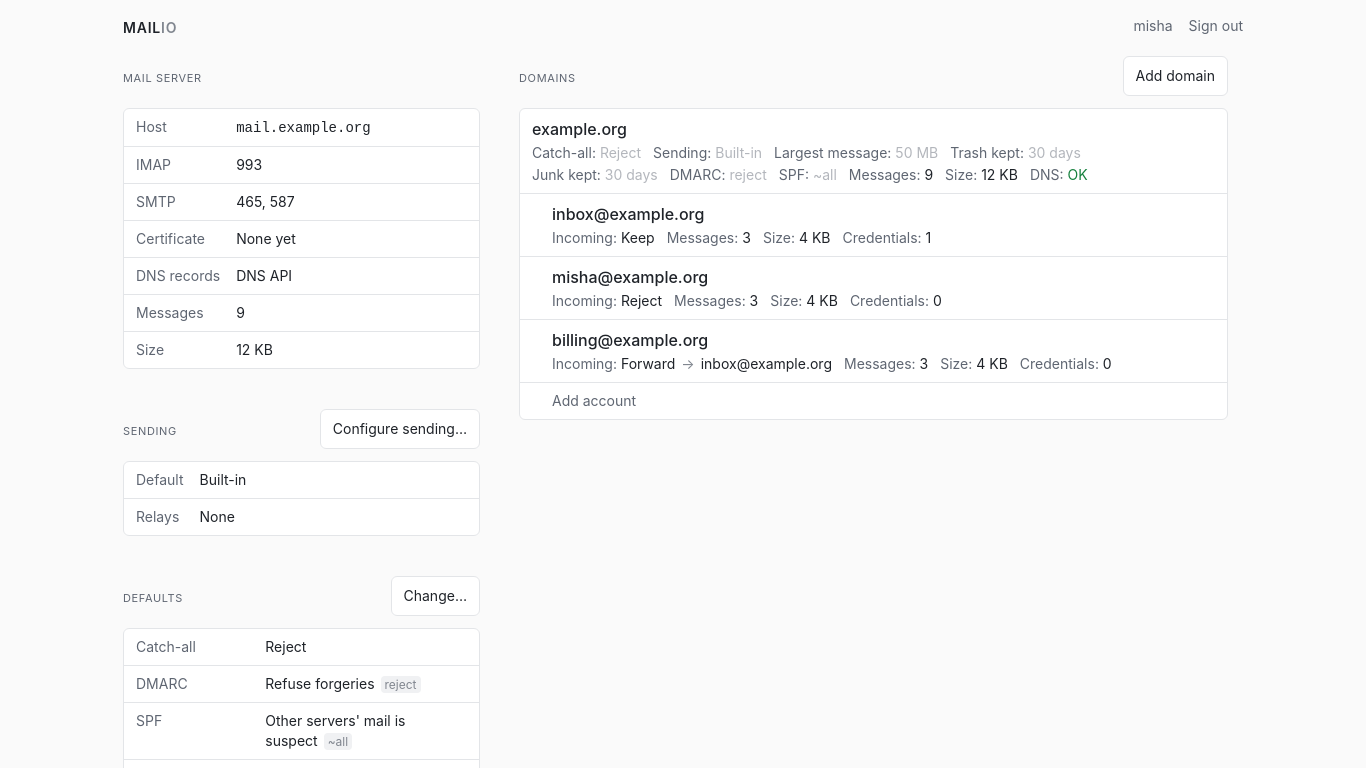
it: mail is sent on only to an account that keeps it, and that account keeps it
This screenshot has width=1366, height=768.
expect the button "billing@example.org" shows "Forward→inbox@example.org": met, box [520,320,1227,382]
Step 1. Click the button "inbox@example.org" → [628, 214], box [520,194,1227,256]
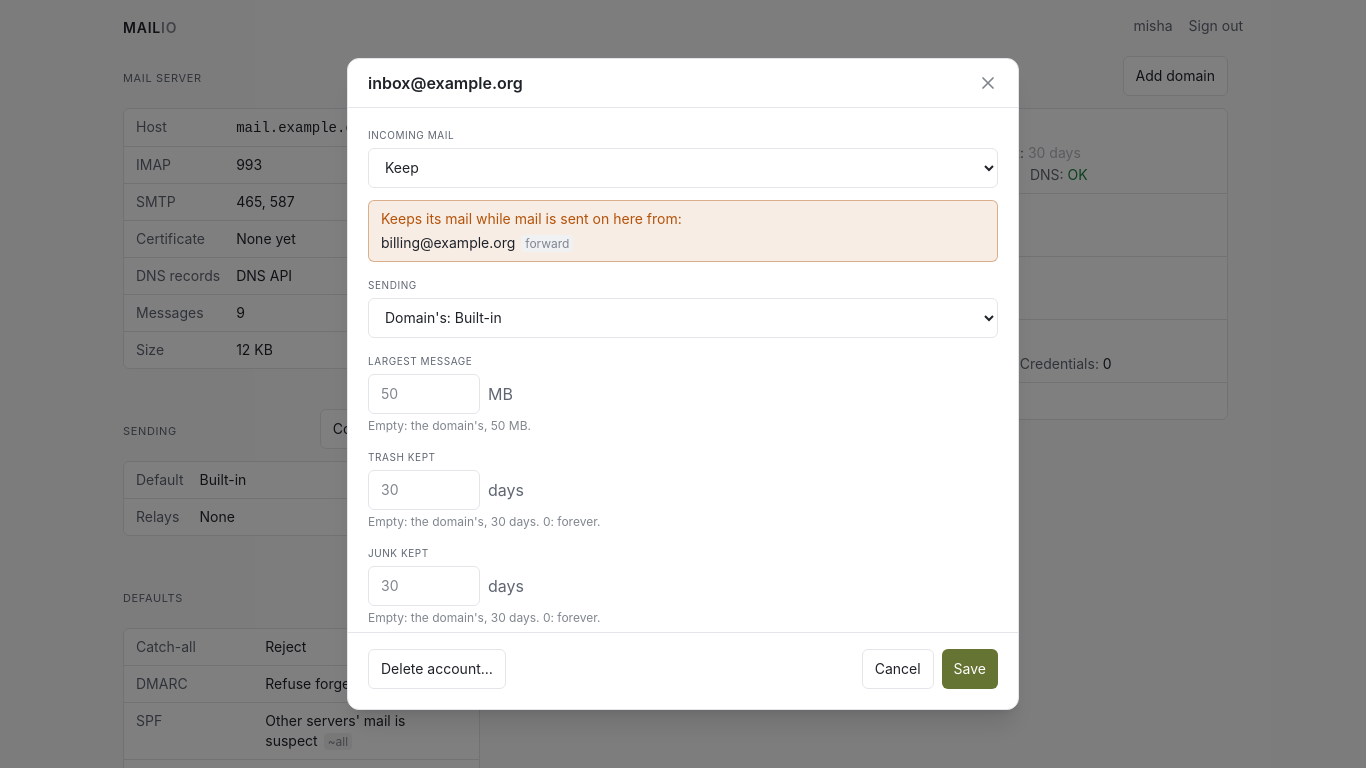
expect the text "Keeps its mail while mail is sent on here from:" is shown: met, box [381,210,682,227]
expect the list item "billing@example.org" is shown: met, box [381,234,515,251]
Step 2. Click the button named "Close" → [988, 83], box [974,69,1002,97]
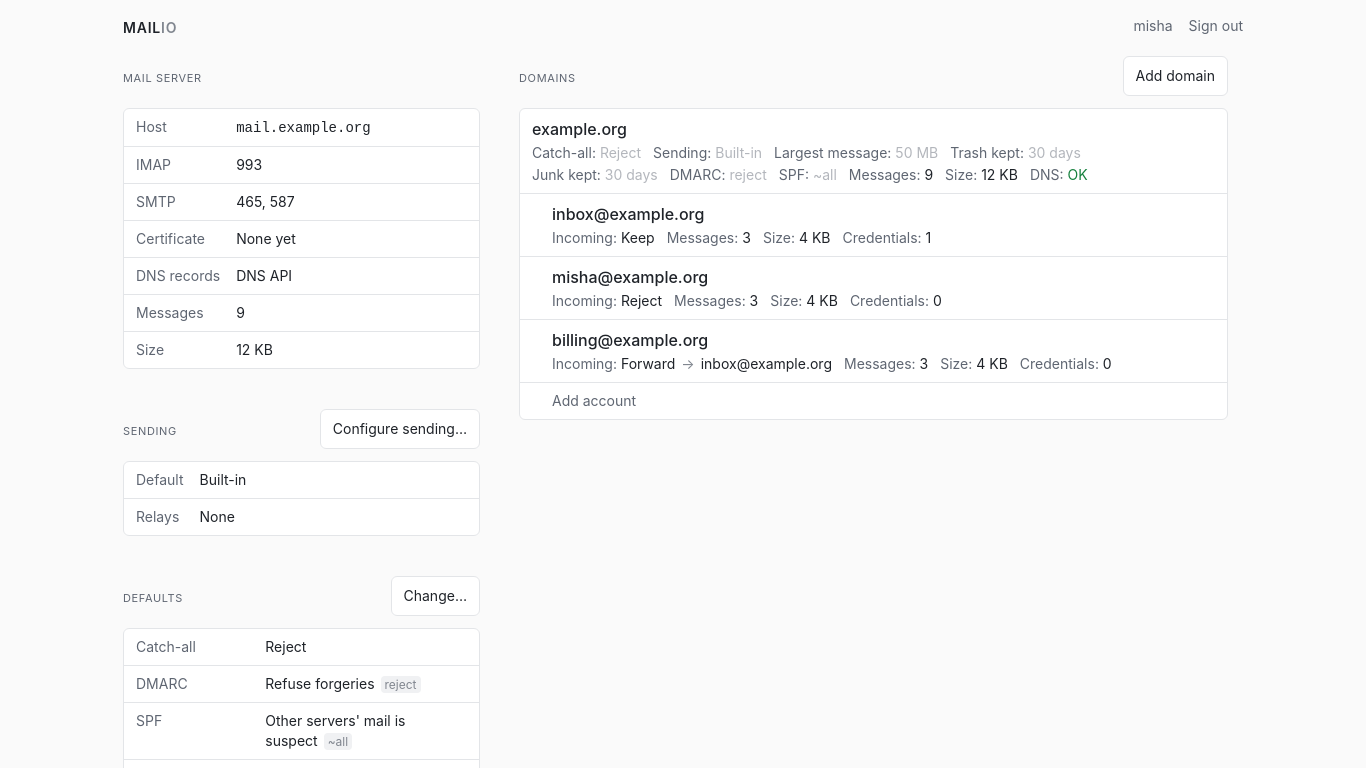
Step 3. Click the button "misha@example.org" → [630, 277], box [520,257,1227,319]
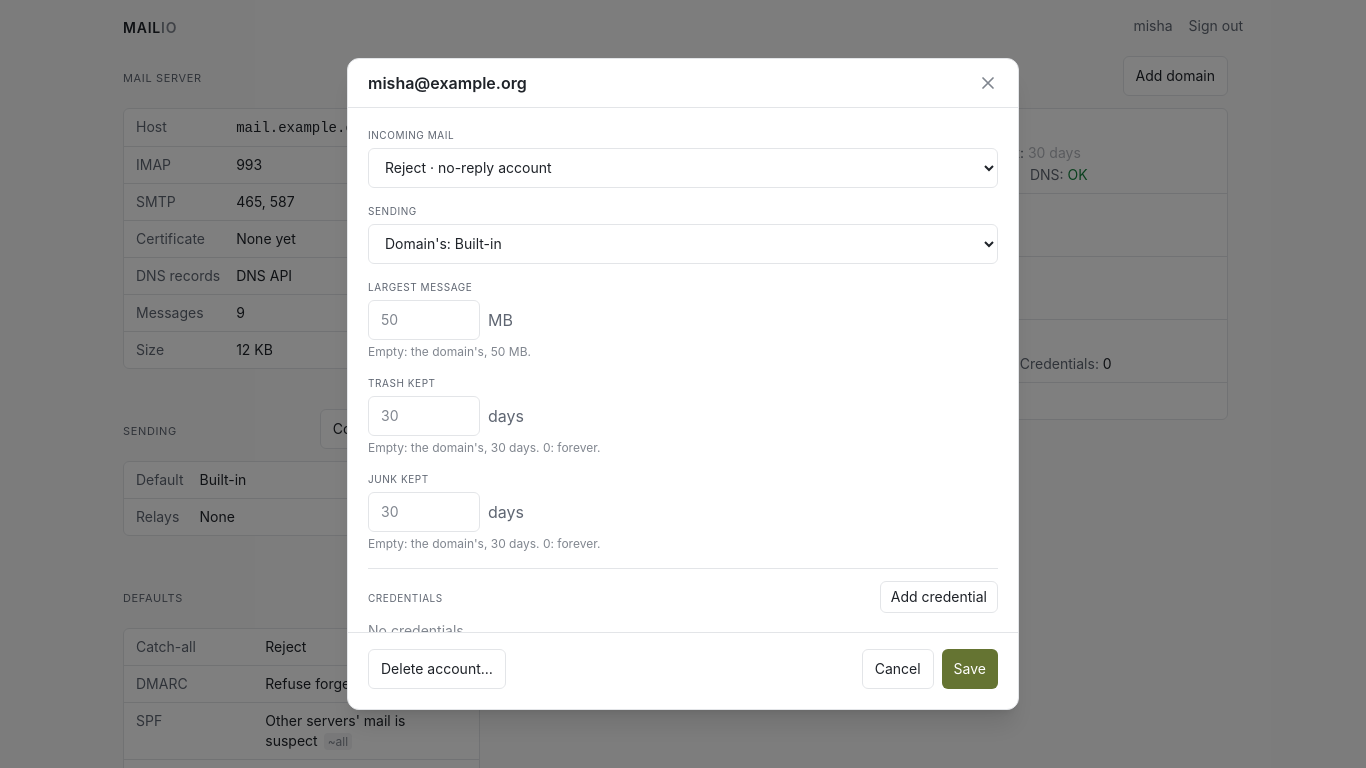
Step 4. Select "Forward" in the dropdown labelled "Incoming mail" → [683, 168], box [368,148,998,188]
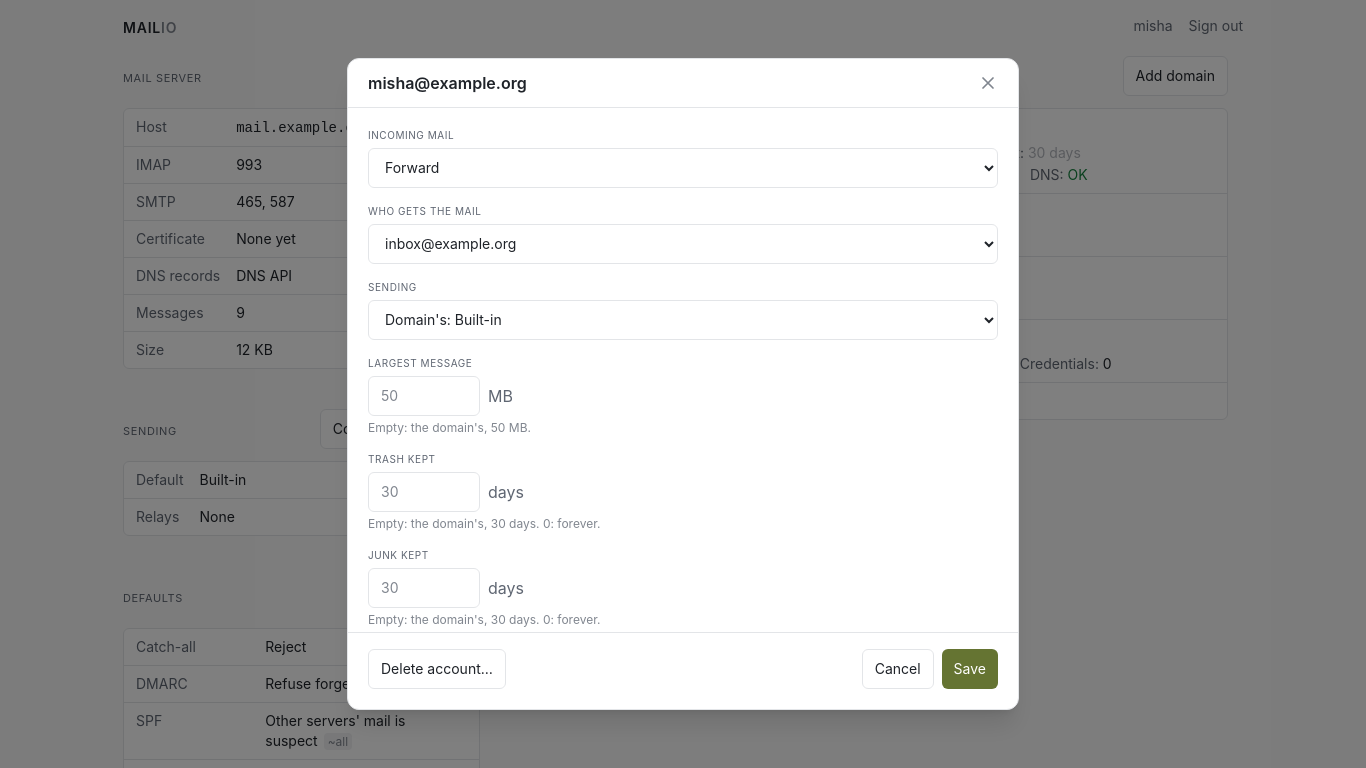
expect the dropdown labelled "Who gets the mail" shows "inbox@example.org": met, box [368,224,998,264]
